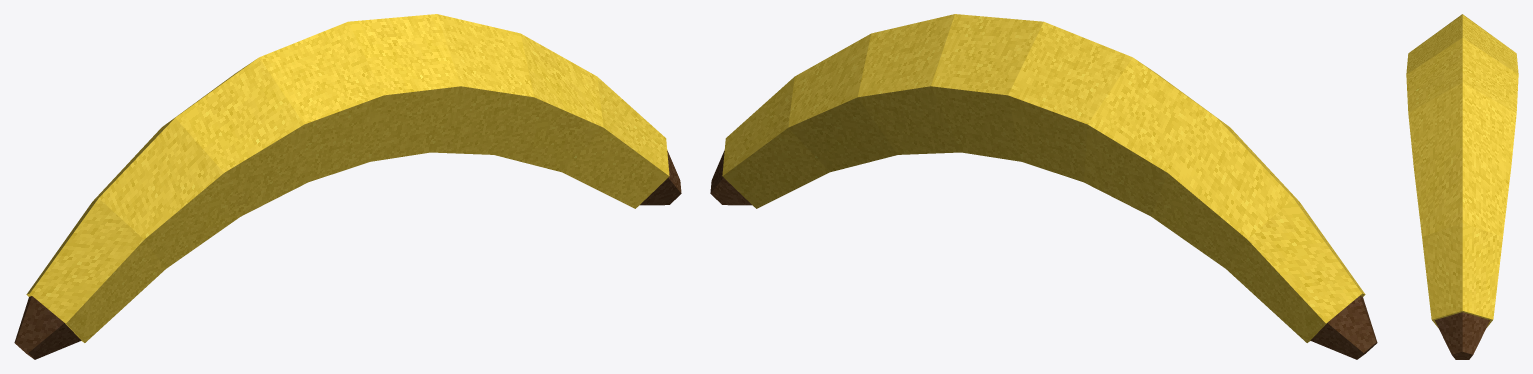
3 views of the same model, side by side, from view 1: azimuth 30°, elevation 25°; view 2: azimuth 150°, elevation 25°; view 3: azimuth 270°, elevation 25° (orthographic). The views are drawn at different scales.
Parts seen in each view (by area): view 1: banana; view 2: banana; view 3: banana.
Boxes of the visible parts, x1,y1,x2,y2 form: banana: (14,14,681,359); banana: (710,14,1377,359); banana: (1406,14,1518,359).
Bounding box in the file's own units: 0.2031 × 0.0753 × 0.038.
2 materials, 2 textured.
